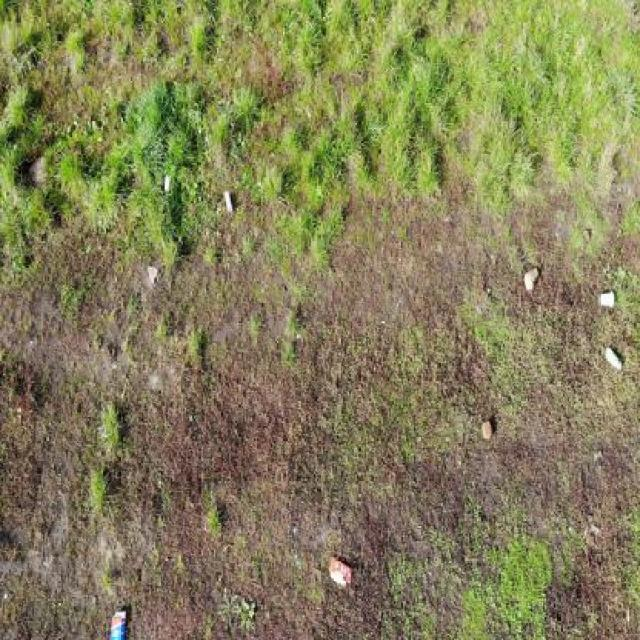Garbage: (330, 556, 353, 587), (604, 347, 623, 374), (111, 612, 126, 639), (600, 289, 615, 308), (224, 190, 234, 213), (165, 175, 172, 193)
